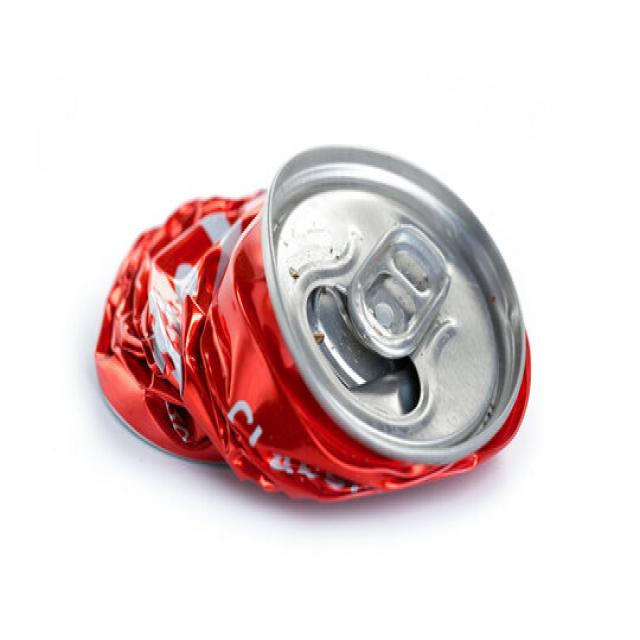non-organic waste: (84, 91, 545, 560)
